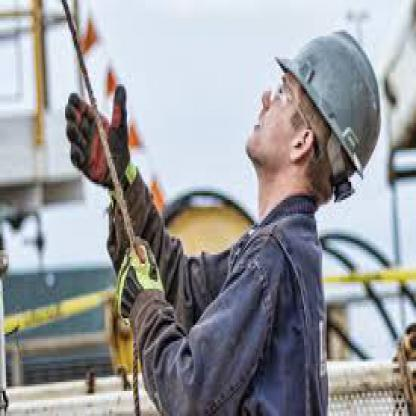with_gloves: (64, 82, 138, 193), (115, 236, 166, 316)
